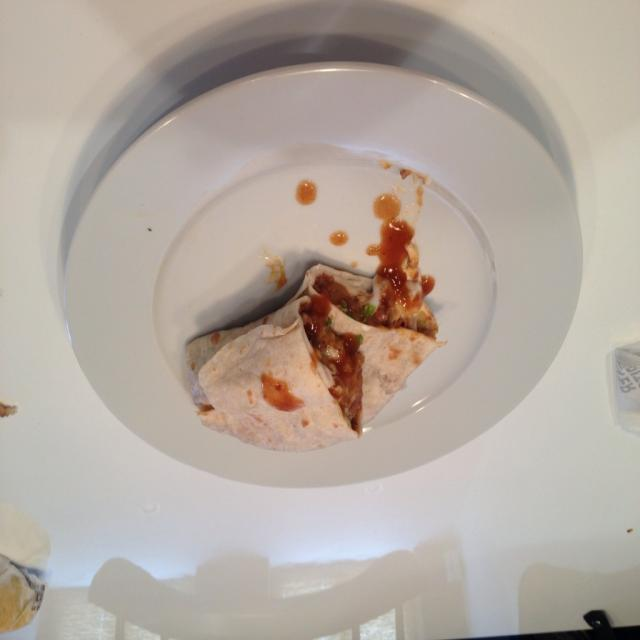ceramic plate: (56, 43, 584, 517)
